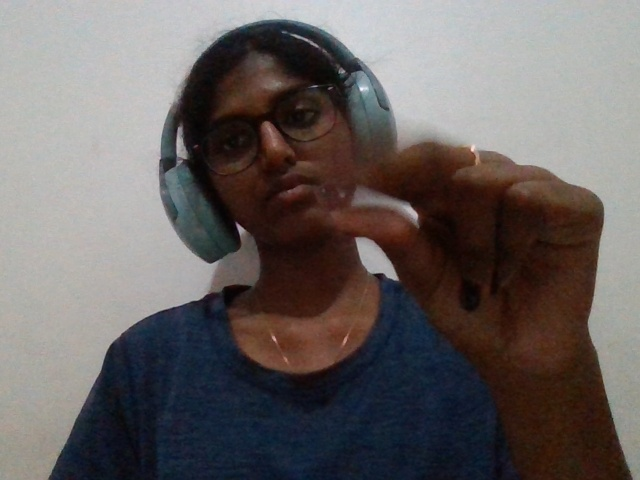No: (289, 107, 621, 450)
